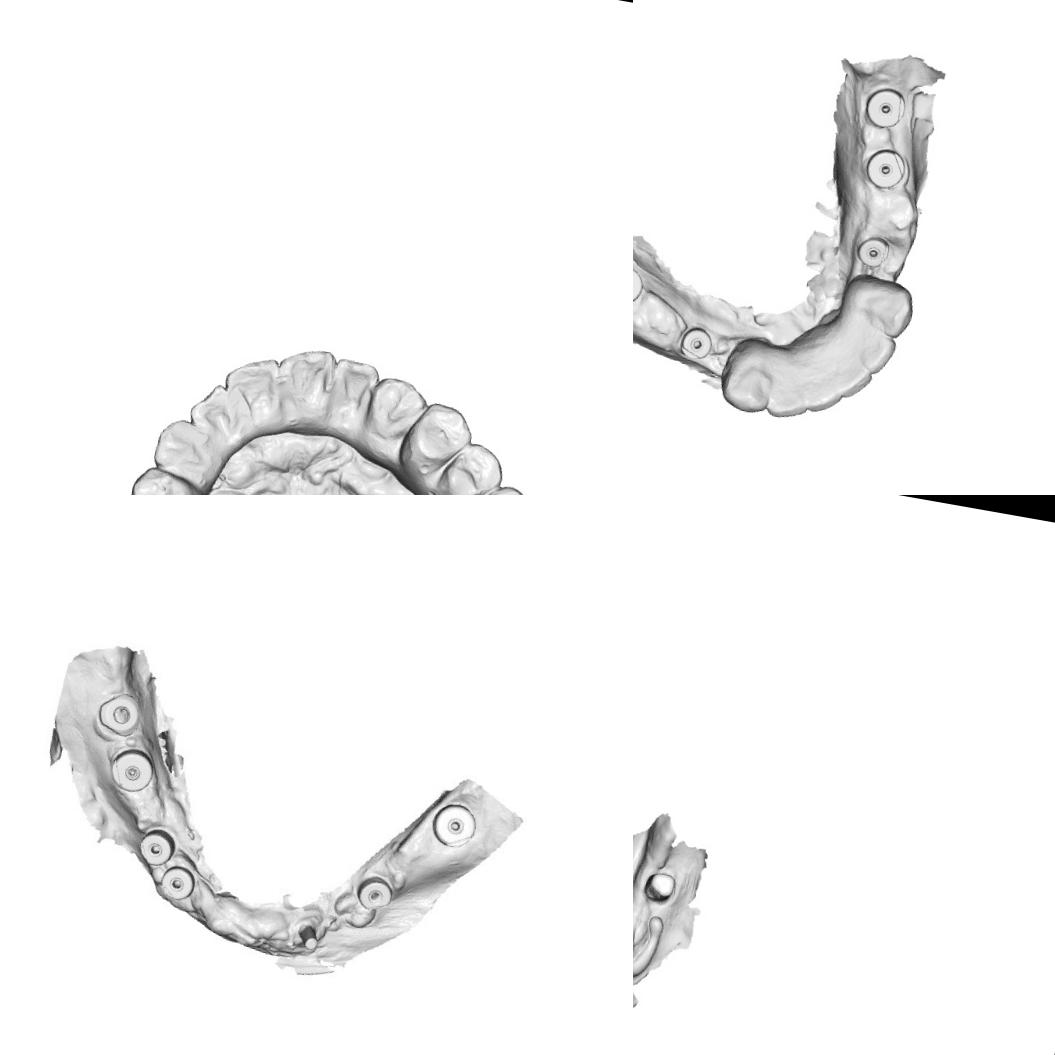abutment: (640, 868, 678, 906), (293, 922, 320, 950)
canine: (146, 412, 239, 493), (837, 269, 918, 340), (714, 331, 780, 416), (361, 368, 431, 446)
implant: (428, 799, 480, 851), (106, 744, 157, 796), (94, 688, 144, 739), (860, 83, 909, 132), (862, 144, 908, 192), (134, 824, 178, 868), (352, 872, 395, 913), (156, 861, 198, 902), (676, 323, 715, 363), (854, 232, 891, 269), (633, 261, 647, 309)
incisor: (270, 342, 343, 432), (216, 348, 285, 426), (182, 376, 250, 452), (324, 352, 382, 423), (764, 378, 812, 422), (828, 360, 874, 402), (803, 373, 846, 416), (856, 332, 897, 376)
premolar: (396, 397, 476, 481), (431, 435, 508, 495), (124, 461, 210, 495)
